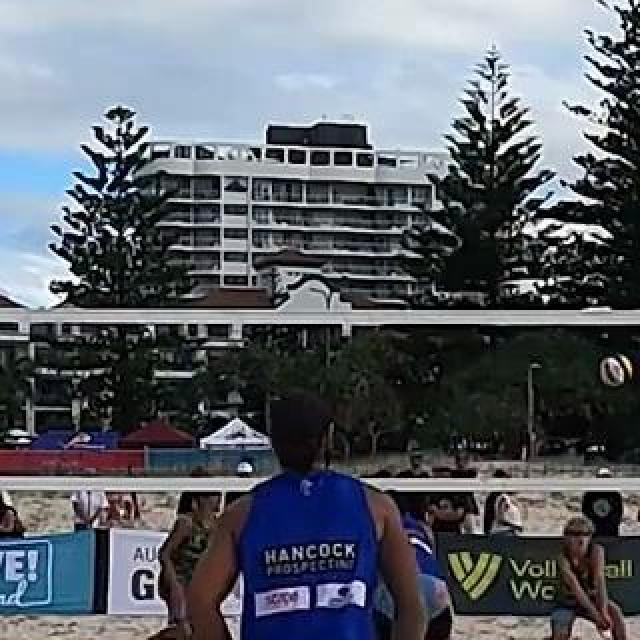volleyball: (599, 355, 635, 389)
